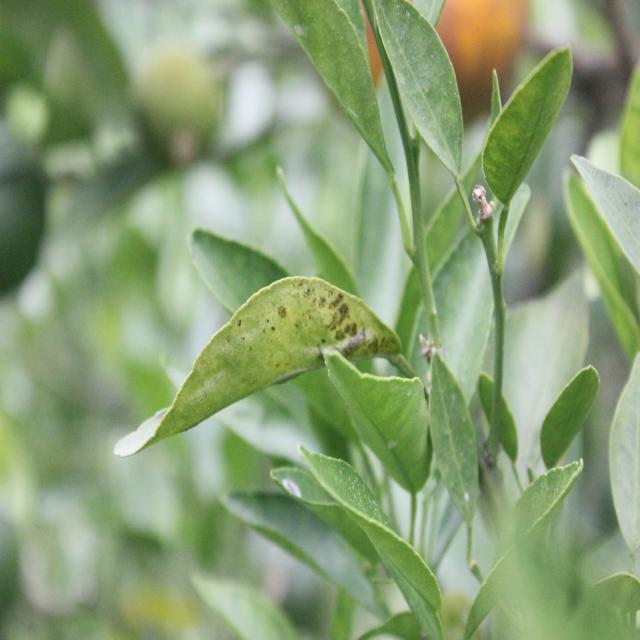melanose: (125, 263, 398, 465)
